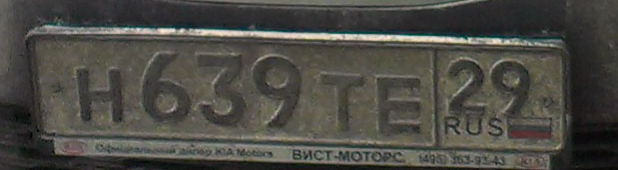character: (133, 45, 193, 134), (246, 47, 306, 135), (189, 47, 249, 133), (371, 69, 428, 143), (312, 65, 367, 140), (70, 61, 131, 128), (487, 55, 536, 119), (441, 54, 489, 116)
